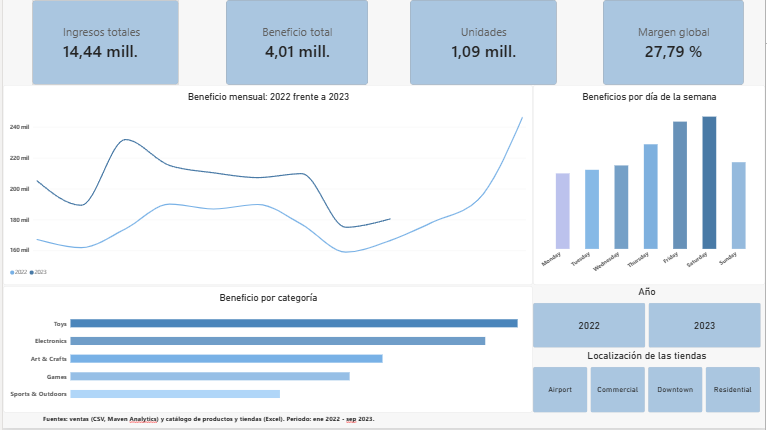

What the dashboard file says about the page in this screenshot:
{"tool":"powerbi","page":{"name":"Resumen","canvas":[1920,1080],"ordinal":0},"visuals":[{"type":"cardVisual","fields":{"Data":["Sum(dataset_final.Total_Revenue)"]},"box":[73.1,0,370.4,214.2],"z":0},{"type":"cardVisual","fields":{"Data":["Sum(dataset_final.Profit)"]},"box":[561.9,0,358,214],"z":1},{"type":"cardVisual","fields":{"Data":["Sum(dataset_final.Units)"]},"box":[1025.5,0,370,214],"z":2},{"type":"lineChart","title":"Beneficio mensual: 2022 frente a 2023","fields":{"Category":["dataset_final.Month"],"Series":["dataset_final.Año"],"Y":["Sum(dataset_final.Profit)"]},"box":[0,214.2,1335.4,503.9],"z":3},{"type":"barChart","title":"Beneficio por categoría","fields":{"Category":["dataset_final.Product_Category"],"Y":["Sum(dataset_final.Profit)"]},"box":[0,720.6,1335,319],"z":4},{"type":"columnChart","title":"Beneficios por día de la semana","fields":{"Category":["dataset_final.Weekday"],"Y":["Sum(dataset_final.Profit)"]},"box":[1335.4,214.2,584.6,503.9],"z":5},{"type":"advancedSlicerVisual","fields":{"Values":["dataset_final.Año"]},"box":[1335.4,718.1,574.5,158.7],"z":6},{"type":"advancedSlicerVisual","title":"Localización de las tiendas","fields":{"Values":["dataset_final.Store_Location"]},"box":[1335.4,879.4,574,160],"z":7},{"type":"cardVisual","fields":{"Data":["dataset_final.Margen %"]},"box":[1511.8,0,355.3,214.2],"z":8},{"type":"textbox","box":[100.8,1040.6,1819.2,40.3],"z":9}]}

Visuals, with their boxes in screenshot pixels (x1, y1, x2, y2), scaled from the page's 1920x1080 canvas onto the 767x430 screenshot:
cardVisual - Sum(dataset_final.Total_Revenue): (x1=29, y1=0, x2=177, y2=85)
cardVisual - Sum(dataset_final.Profit): (x1=224, y1=0, x2=367, y2=85)
cardVisual - Sum(dataset_final.Units): (x1=410, y1=0, x2=557, y2=85)
"Beneficio mensual: 2022 frente a 2023" lineChart: (x1=0, y1=85, x2=533, y2=286)
"Beneficio por categoría" barChart: (x1=0, y1=287, x2=533, y2=414)
"Beneficios por día de la semana" columnChart: (x1=533, y1=85, x2=766, y2=286)
advancedSlicerVisual - dataset_final.Año: (x1=533, y1=286, x2=763, y2=349)
"Localización de las tiendas" advancedSlicerVisual: (x1=533, y1=350, x2=763, y2=414)
cardVisual - dataset_final.Margen %: (x1=604, y1=0, x2=746, y2=85)
textbox: (x1=40, y1=414, x2=766, y2=429)
